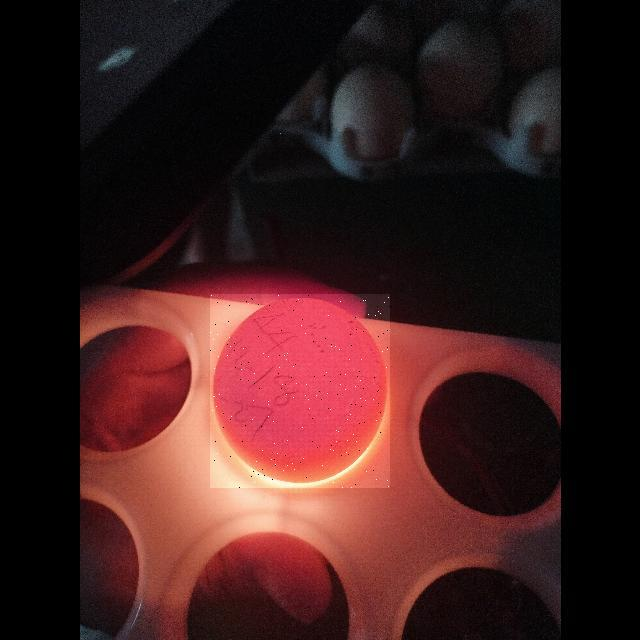Infertile: (210, 294, 390, 488)
